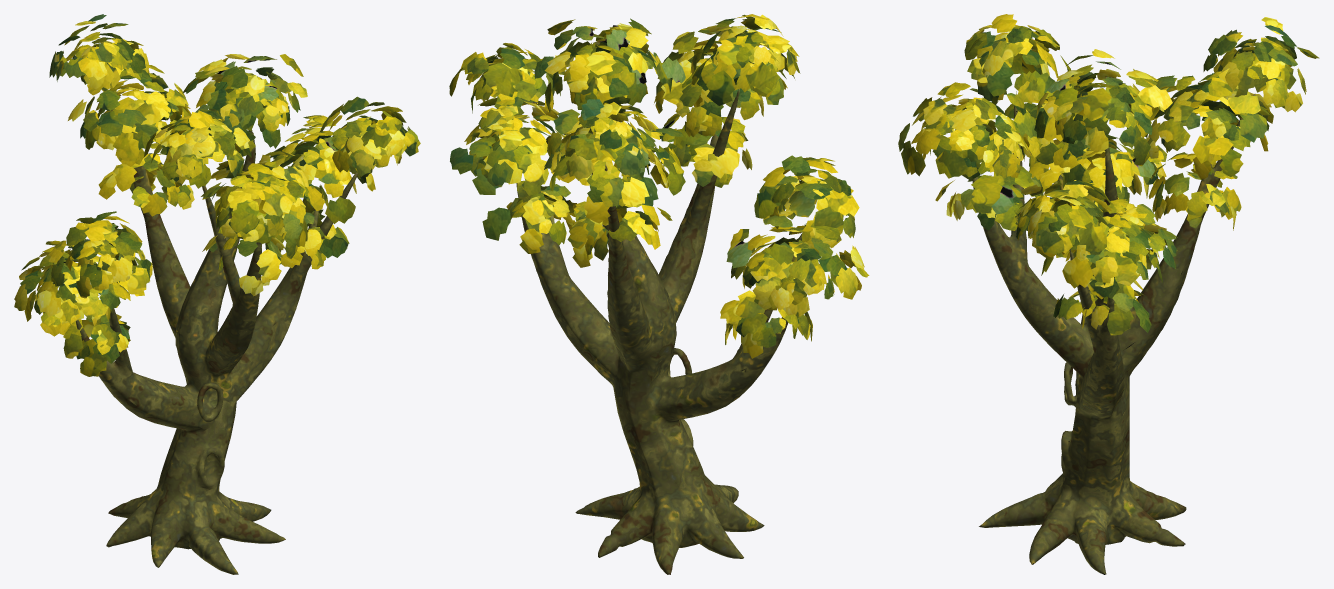
The model's file is golden_leaning_lod0.glb.
3 renders of one model, left to right at view 1: azimuth 30°, elevation 25°; view 2: azimuth 150°, elevation 25°; view 3: azimuth 270°, elevation 25°, orthographic. The views are drawn at different scales.
Parts seen in each view (by area): view 1: Leaves_LOD0.002, Trunk_LOD0.002; view 2: Leaves_LOD0.002, Trunk_LOD0.002; view 3: Leaves_LOD0.002, Trunk_LOD0.002.
Part boxes in pixels (box(x1,y1,x2,y2)): Leaves_LOD0.002: box(14, 14, 420, 376); Trunk_LOD0.002: box(76, 109, 358, 574); Leaves_LOD0.002: box(449, 14, 869, 358); Trunk_LOD0.002: box(516, 89, 802, 574); Leaves_LOD0.002: box(898, 14, 1319, 335); Trunk_LOD0.002: box(972, 91, 1255, 574).
Size of the model in its own units: 5.19 by 6.04 by 4.6.
2 materials, 2 textured.
